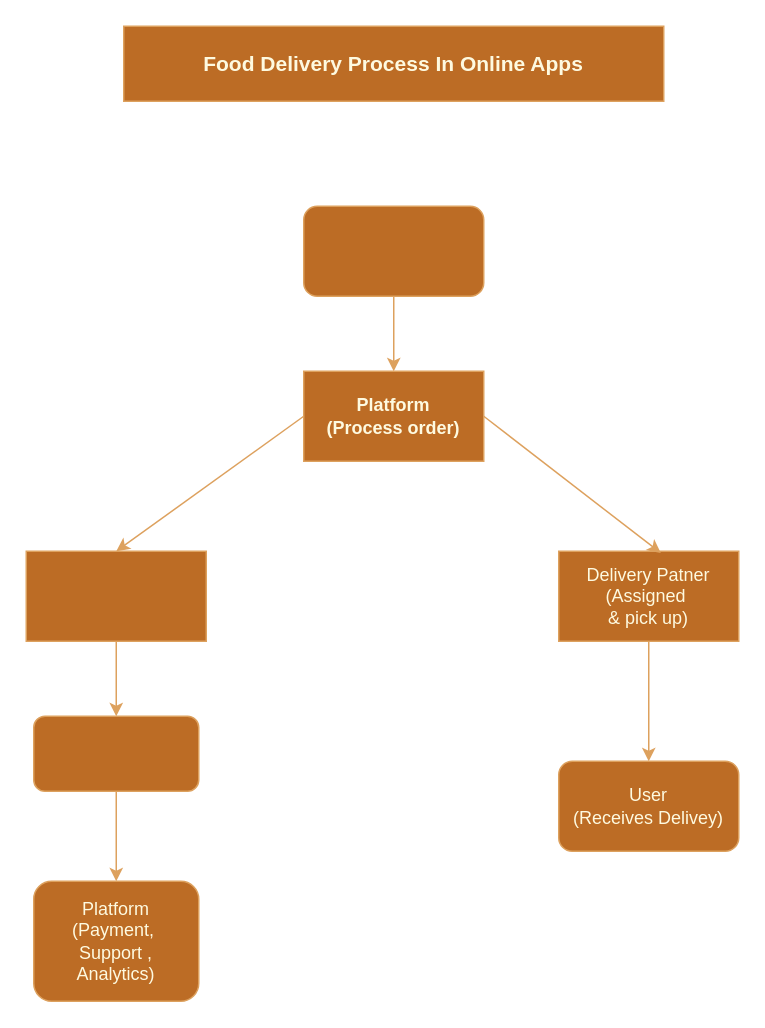
Some shapes in this 765 by 1028 pixel diagram are drawn without their labels. The centre of each missing label's shape, as x and y in pixels:
"Order Ready for Pickup" belongs at (x=115, y=753).
"Restaurants (Prepares food)" belongs at (x=115, y=595).
"User(Browse & Place order)" belongs at (x=393, y=250).
